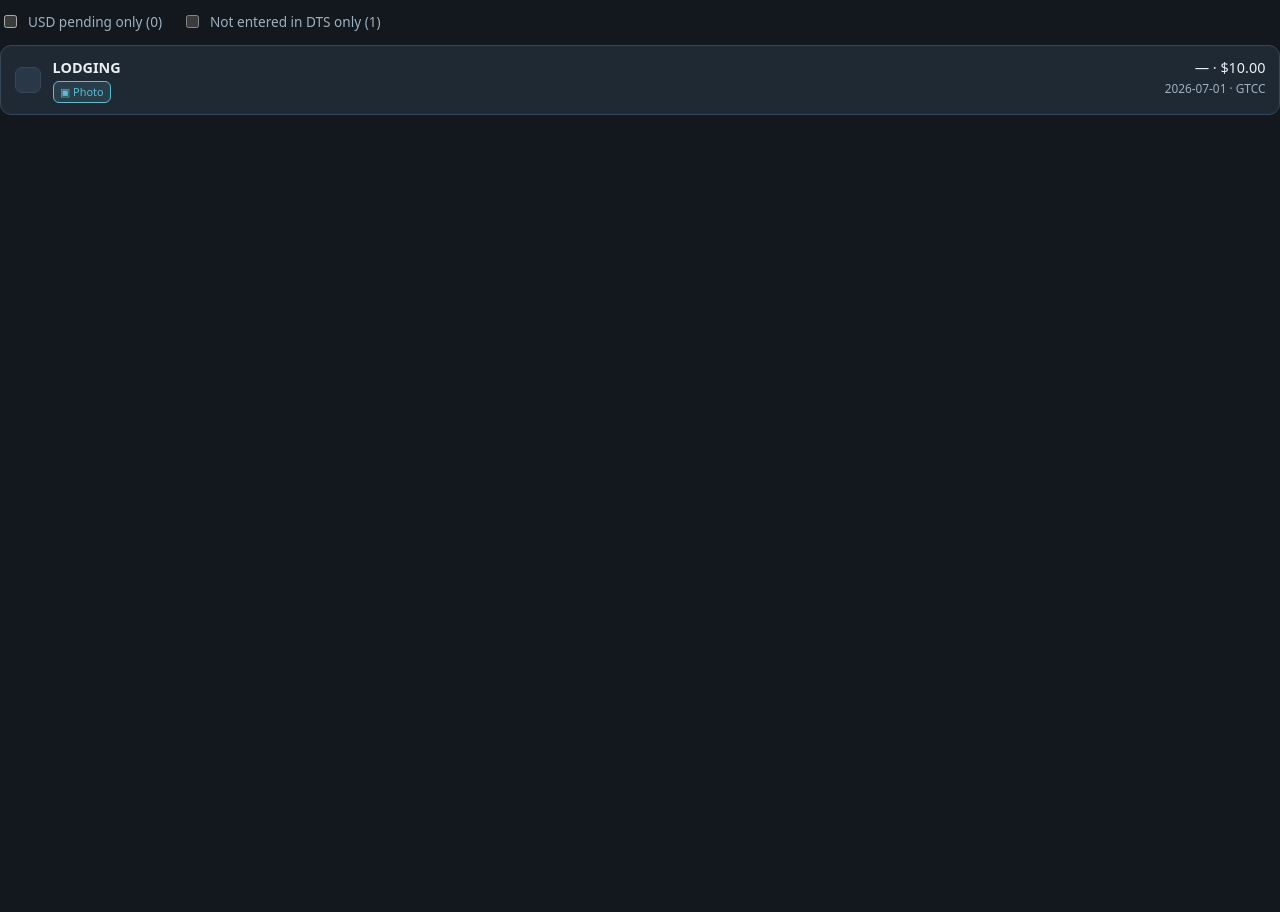
ExpenseList — receipt photos › EditRow shows a file chip, not an <img>, for an existing PDF attachment
Click the text "LODGING" at (87, 67), box [53,58,121,77]
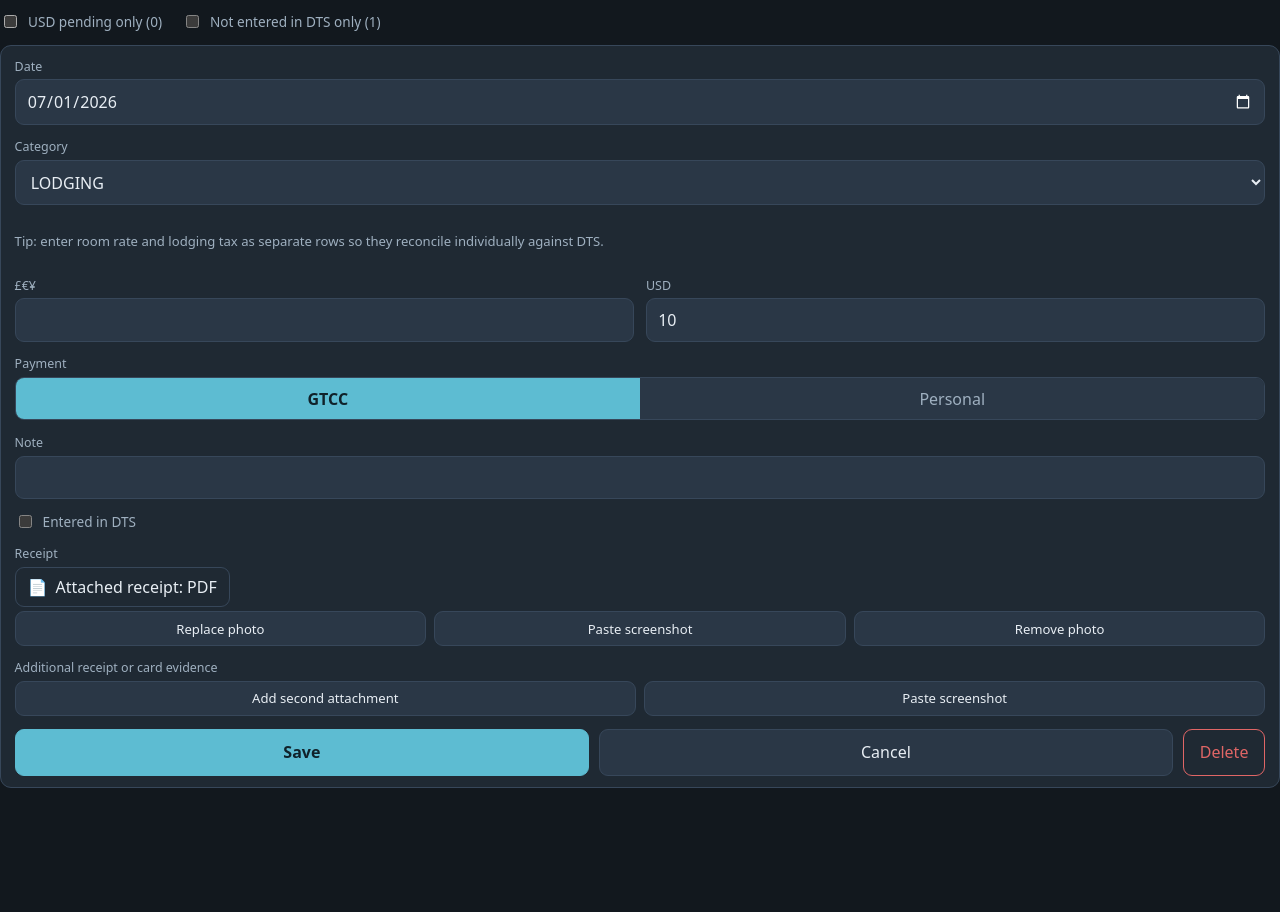
Now the text "Attached receipt: PDF" is shown, box [56,576,217,598]
